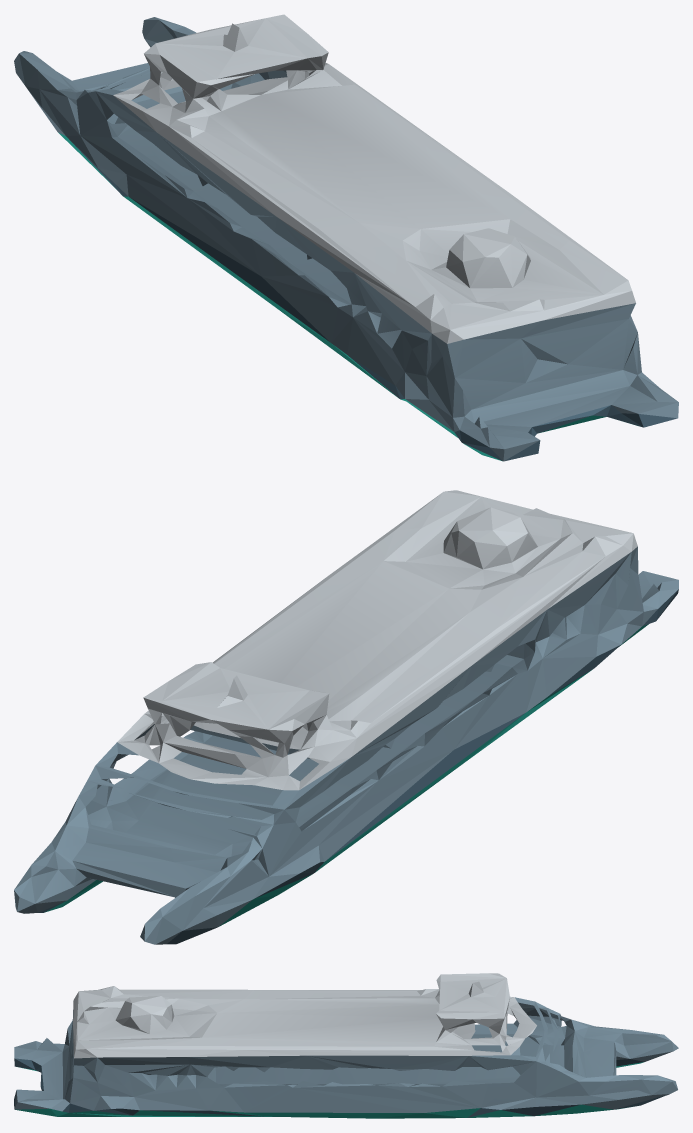
The model's file is highspeed.glb.
3 views of the same model, one above another, from view 1: azimuth 30°, elevation 25°; view 2: azimuth 150°, elevation 25°; view 3: azimuth 270°, elevation 25° (orthographic). The views are drawn at different scales.
Visible parts, largest first — view 1: lod0; view 2: lod0; view 3: lod0.
Part boxes in pixels (x1,y1,x2,y2): lod0: (14,14,678,461); lod0: (14,490,678,944); lod0: (14,973,678,1118).
Size of what is drawn, in the model's own units: 0.2409 by 0.1784 by 0.9958.
